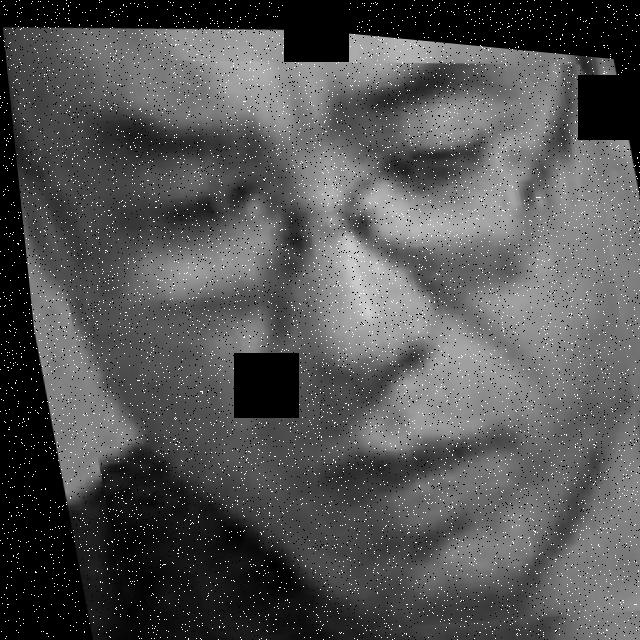anger: (17, 9, 640, 640)
